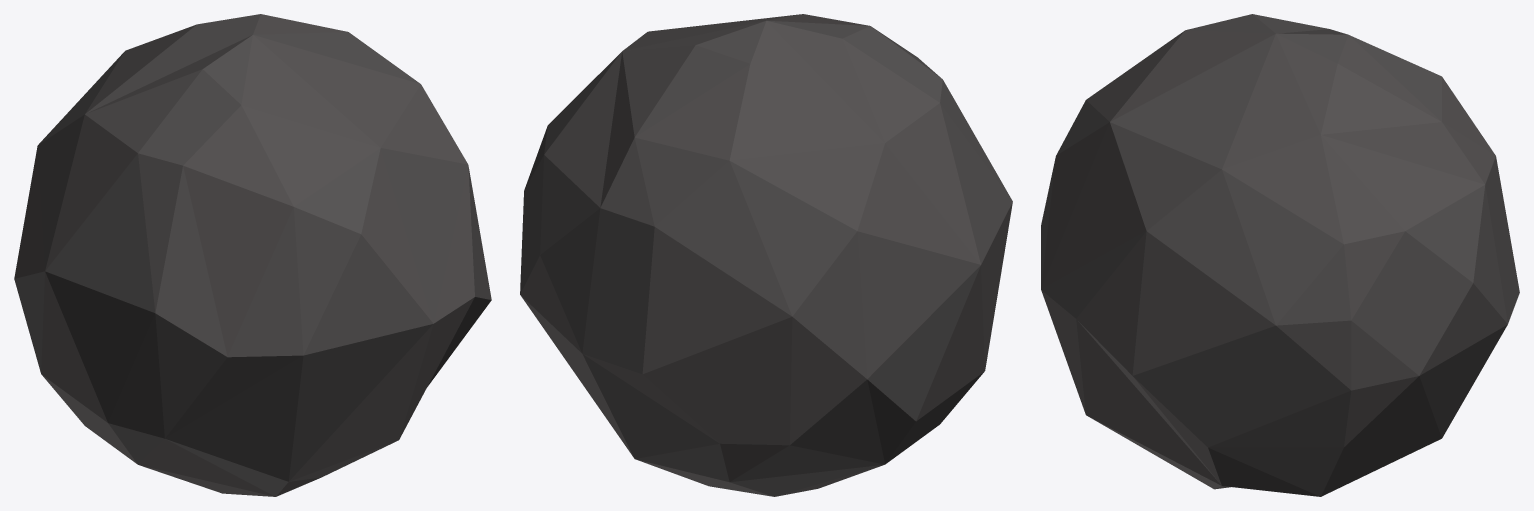
File: LPSWP_TrebuchetRock02.fbx
3 renders of one model, left to right at view 1: azimuth 30°, elevation 25°; view 2: azimuth 150°, elevation 25°; view 3: azimuth 270°, elevation 25°, orthographic. The views are drawn at different scales.
Parts seen in each view (by area): view 1: LPSWP_TrebuchetRock02; view 2: LPSWP_TrebuchetRock02; view 3: LPSWP_TrebuchetRock02.
Boxes of the visible parts, box(x1,y1,x2,y2) form: LPSWP_TrebuchetRock02: box(14, 14, 491, 496); LPSWP_TrebuchetRock02: box(520, 14, 1012, 496); LPSWP_TrebuchetRock02: box(1041, 14, 1519, 496).
Size of the model in its own units: 0.5959 by 0.6033 by 0.5848.
